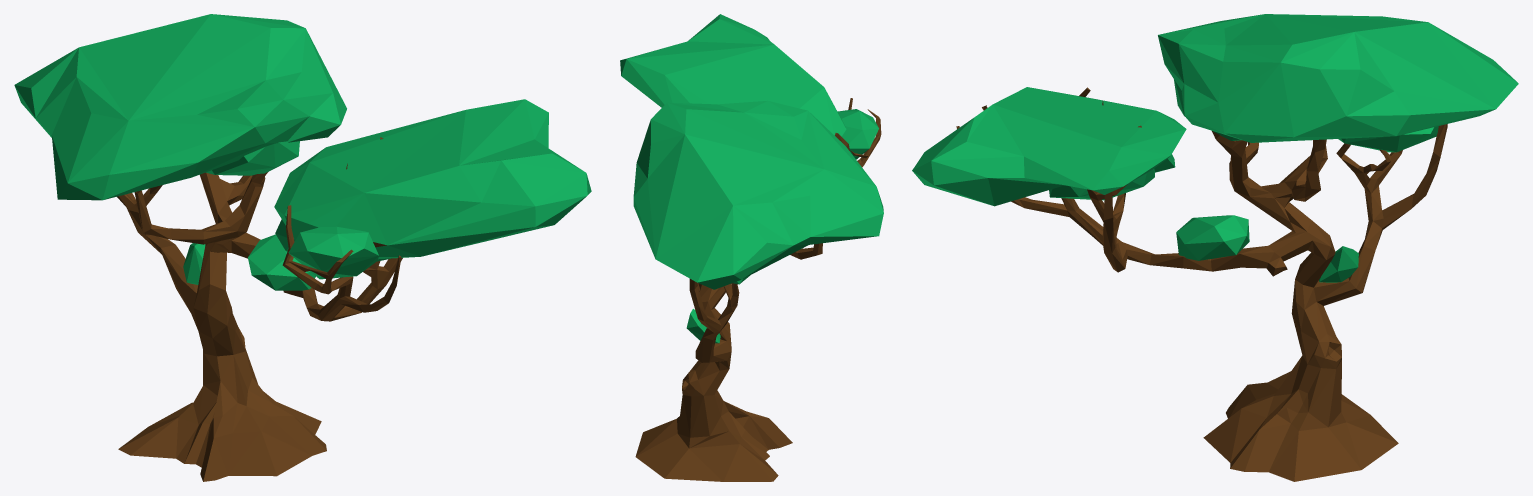
Rendered from Alber_bello1.glb.
3 renders of one model, left to right at view 1: azimuth 30°, elevation 25°; view 2: azimuth 150°, elevation 25°; view 3: azimuth 270°, elevation 25°, orthographic. The views are drawn at different scales.
Parts seen in each view (by area): view 1: EA01_Env_Tree_01c_LOD2; view 2: EA01_Env_Tree_01c_LOD2; view 3: EA01_Env_Tree_01c_LOD2.
Part boxes in pixels (<box>): EA01_Env_Tree_01c_LOD2: <box>14,14,591,481</box>; EA01_Env_Tree_01c_LOD2: <box>620,14,883,481</box>; EA01_Env_Tree_01c_LOD2: <box>912,14,1518,481</box>.
Bounding box in the file's own units: 10.44 × 10.08 × 13.43.
Materials: 1 (1 with a texture image).
